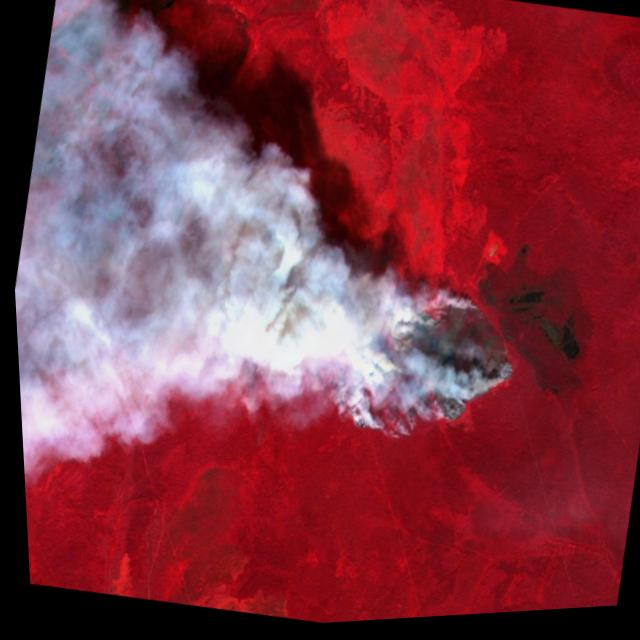fire: (323, 269, 534, 480), (97, 214, 176, 290), (97, 212, 174, 286), (48, 131, 98, 182)
